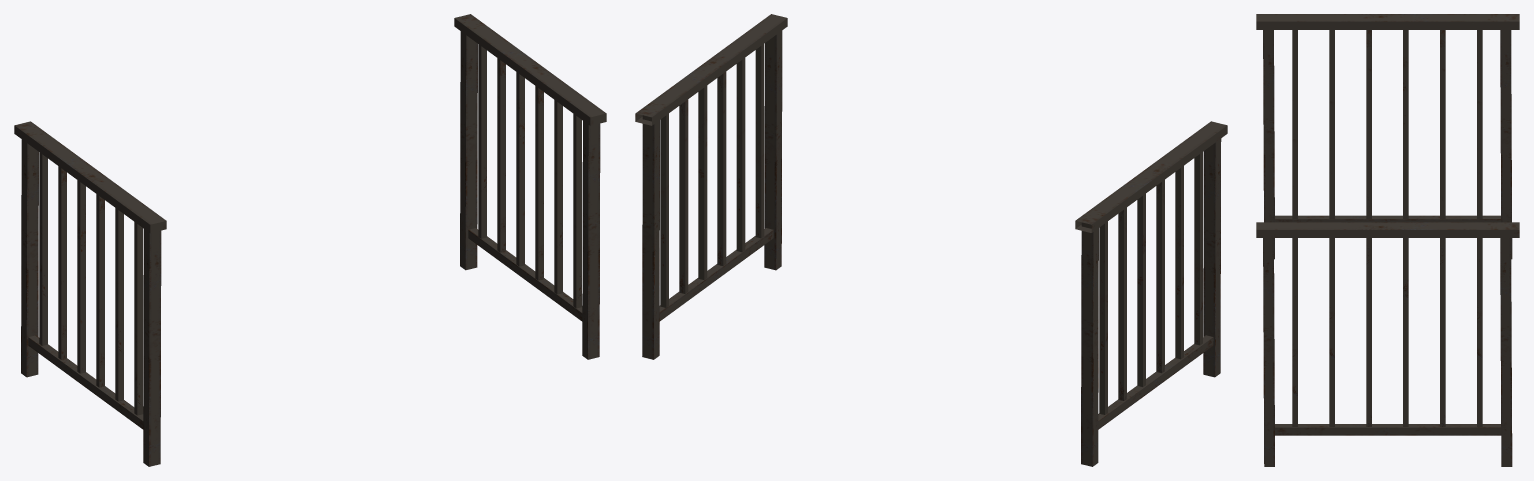
The model's file is Stairs_Rails_Metal_Straight_1.gltf.
The picture shows the model from 3 angles, left to right: view 1: azimuth 30°, elevation 25°; view 2: azimuth 150°, elevation 25°; view 3: azimuth 270°, elevation 25°; orthographic projection. The views are drawn at different scales.
Visible parts, largest first — view 1: Stairs_Rails_Metal_Straight_1; view 2: Stairs_Rails_Metal_Straight_1; view 3: Stairs_Rails_Metal_Straight_1.
Boxes of the visible parts, x1=… form: Stairs_Rails_Metal_Straight_1: x1=14, y1=14, x2=606, y2=466; Stairs_Rails_Metal_Straight_1: x1=635, y1=14, x2=1227, y2=466; Stairs_Rails_Metal_Straight_1: x1=1256, y1=14, x2=1519, y2=466.
Bounding box in the file's own units: 1.94 × 0.9981 × 1.
1 material, 1 textured.
